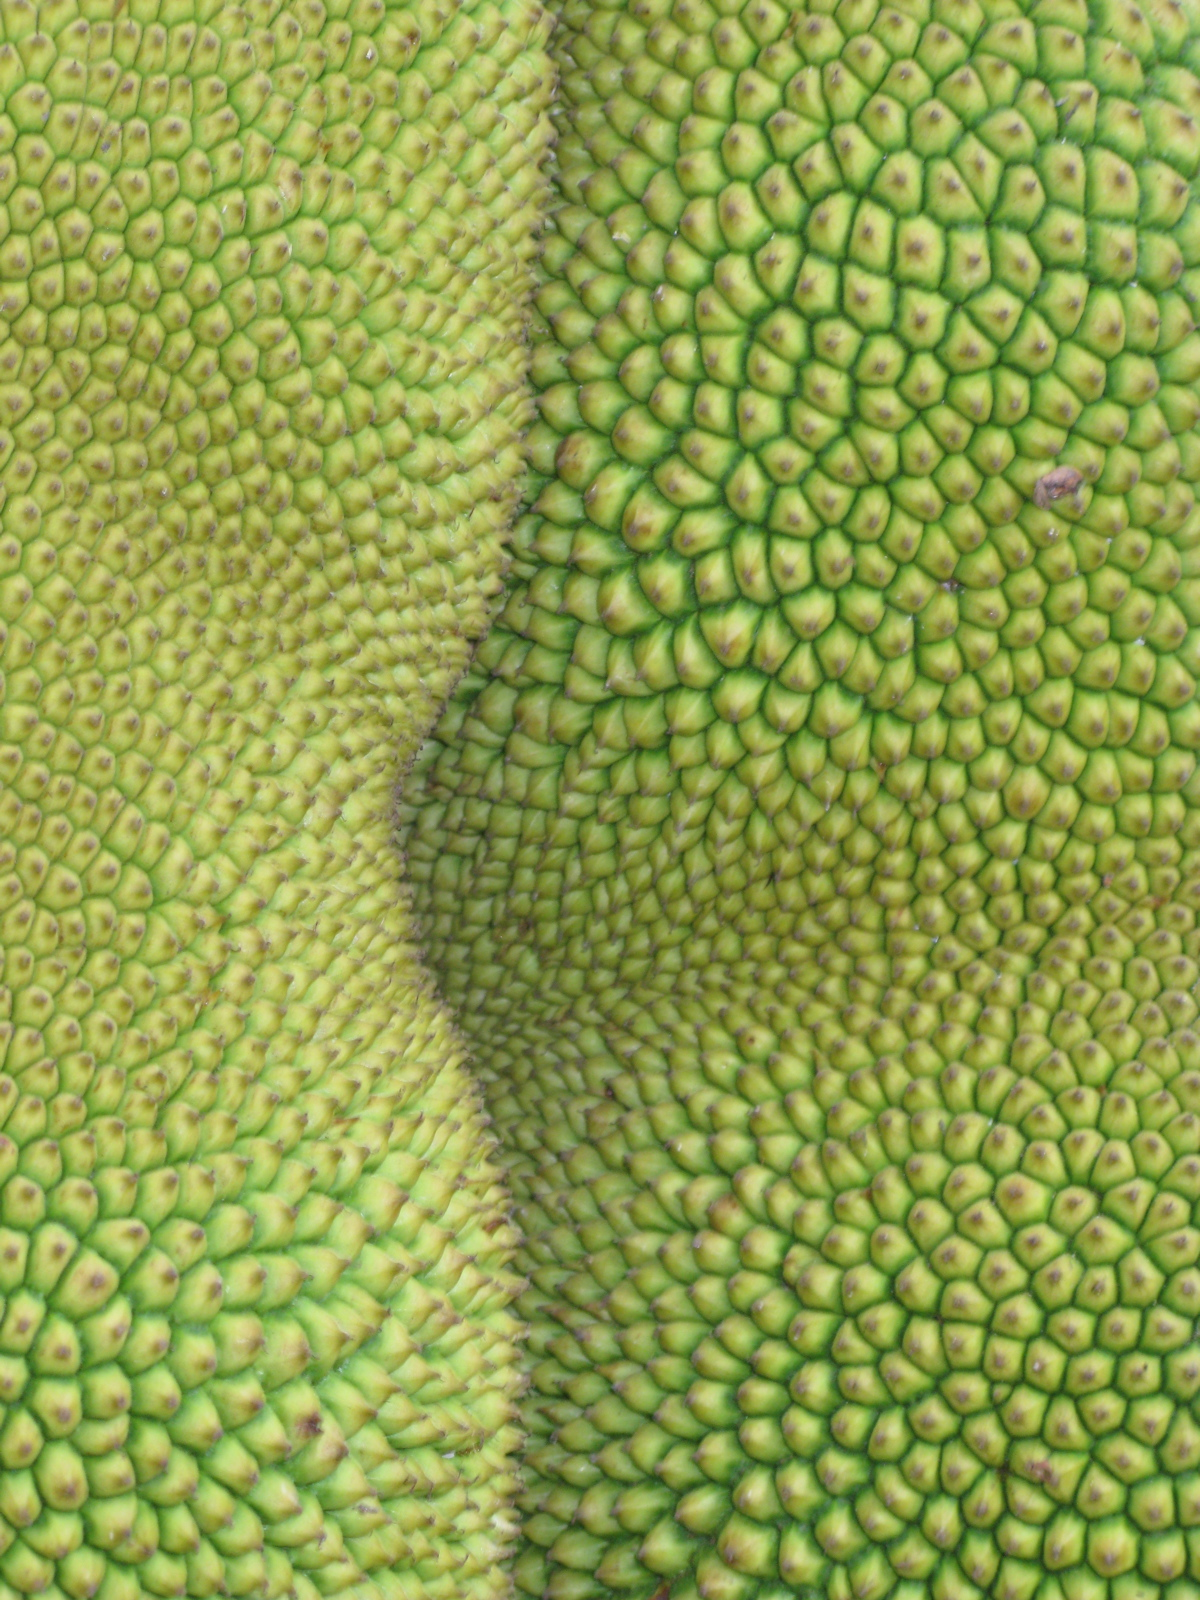jackfruit: (405, 0, 1196, 1596), (0, 0, 548, 1592)
